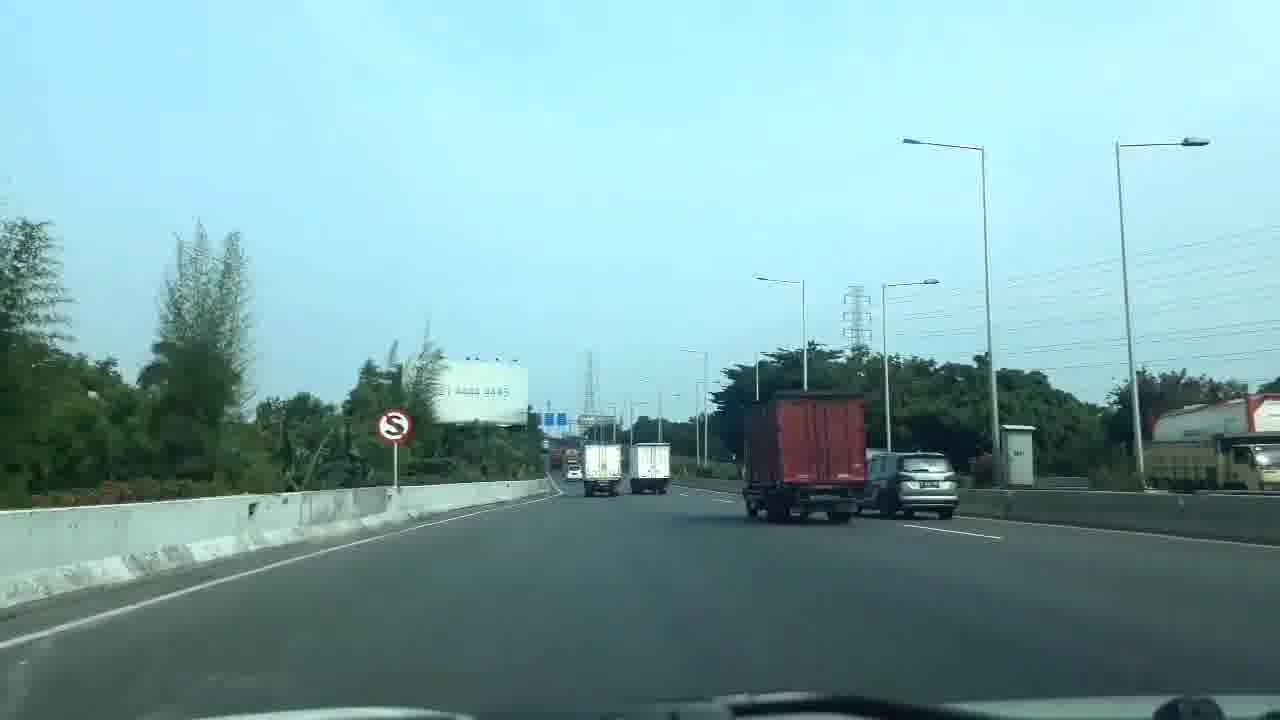plate_positive: (920, 480, 939, 488)
